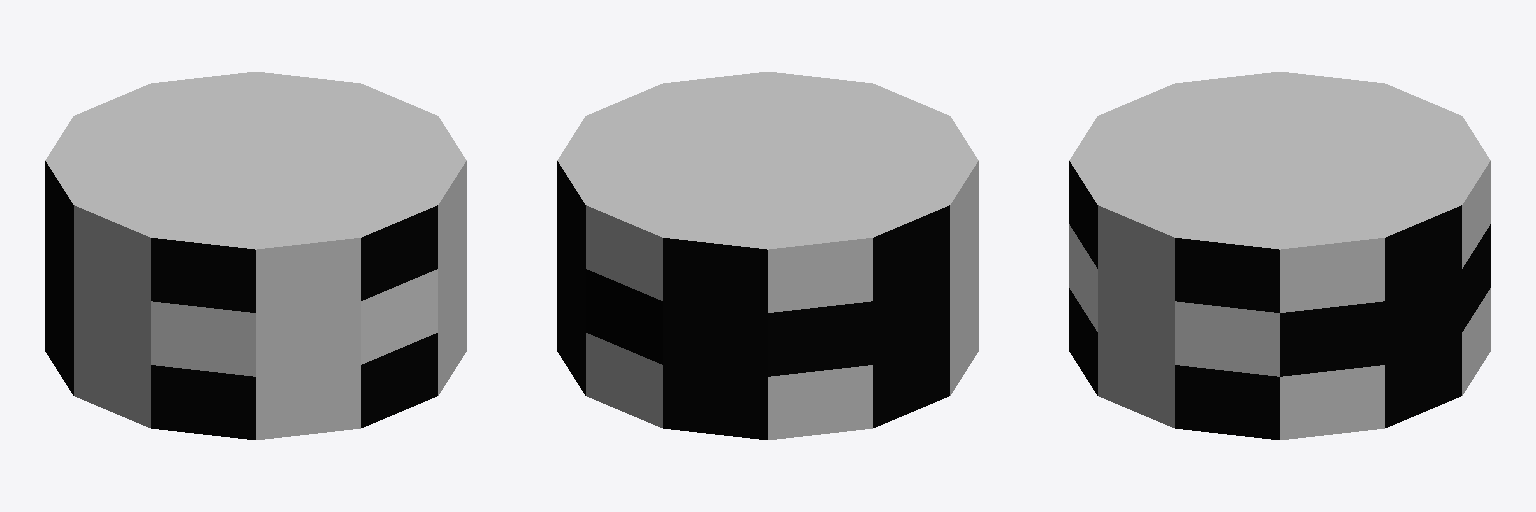
Rendered from block_barrel_1.obj.
3 views of the same model, side by side, from view 1: azimuth 30°, elevation 25°; view 2: azimuth 150°, elevation 25°; view 3: azimuth 270°, elevation 25° (orthographic).
Visible parts, largest first — view 1: Cylinder; view 2: Cylinder; view 3: Cylinder.
Part boxes in pixels (x1,y1,x2,y2): Cylinder: (45, 72, 466, 439); Cylinder: (557, 72, 978, 439); Cylinder: (1069, 72, 1490, 439).
Bounding box in the file's own units: 0.2 × 0.1 × 0.2.